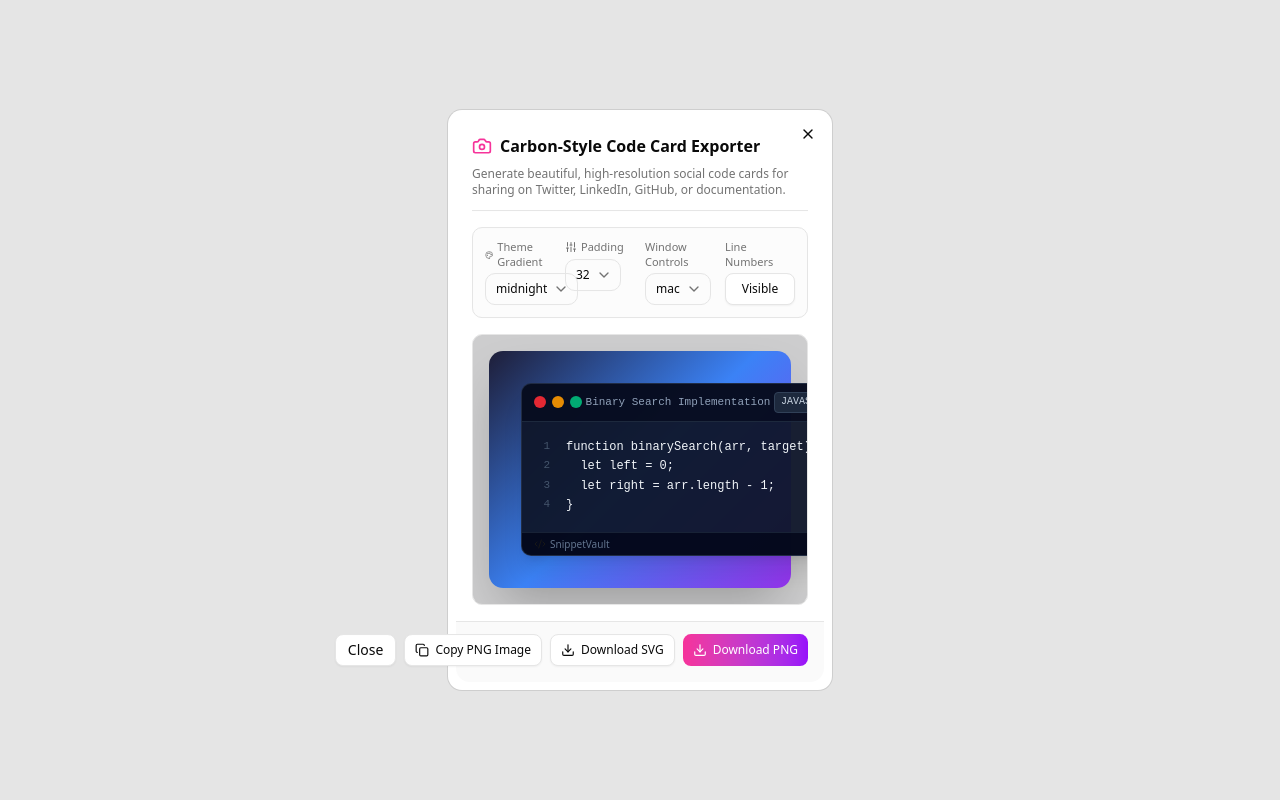
Test: CodeCardDialog › renders code card options, snippet title, and export buttons
Expected: the heading "Carbon-Style Code Card Exporter" is shown, [472, 134, 808, 158]
Expected: the text "Binary Search Implementation" is shown, [586, 395, 770, 410]
# Toggle line numbers
Step 1. Click the button "Visible" → (760, 289), box [725, 273, 795, 305]
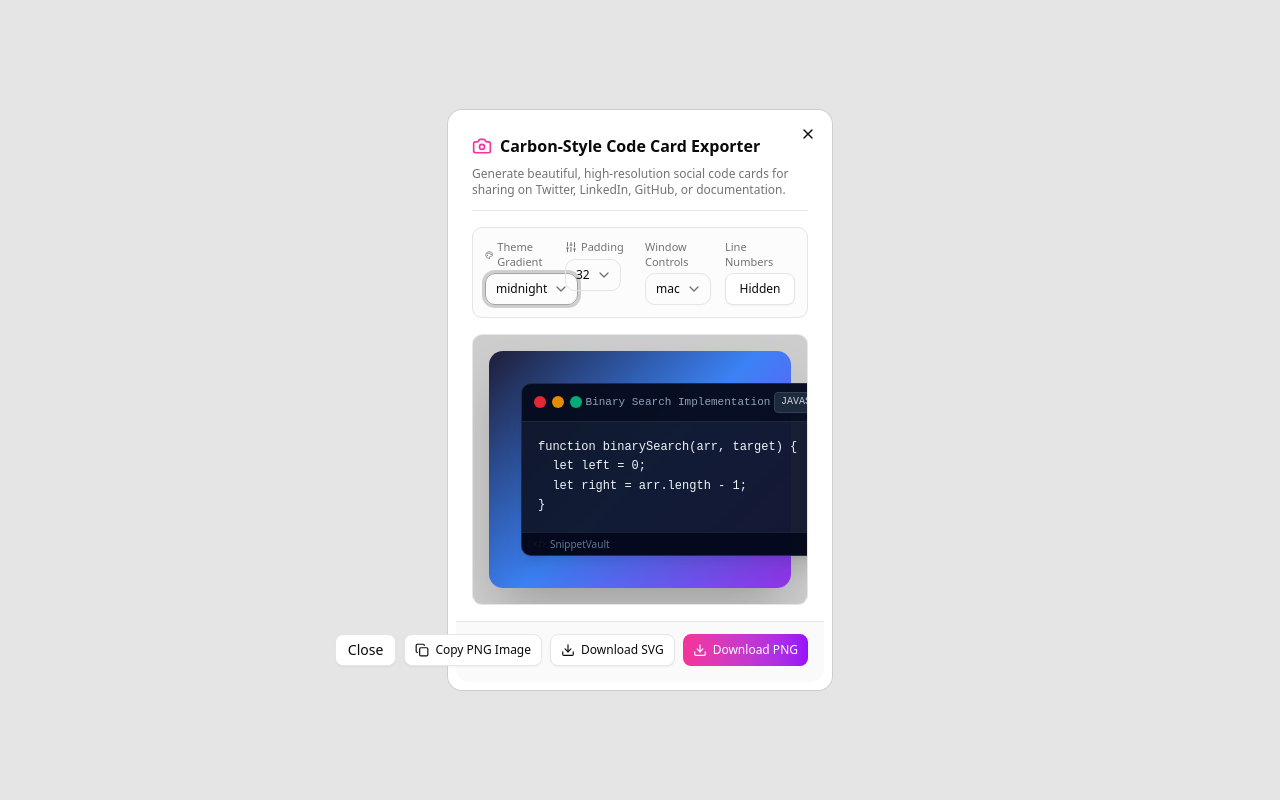
Now the button "Hidden" is shown, box [725, 273, 795, 305]
